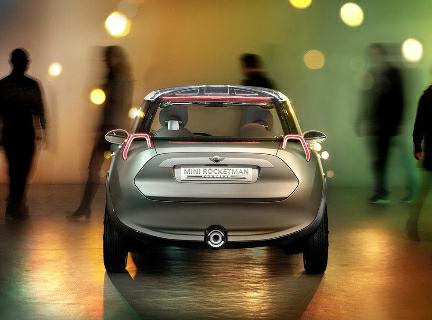MINI-ROCKETMAN: (97, 85, 337, 297)
